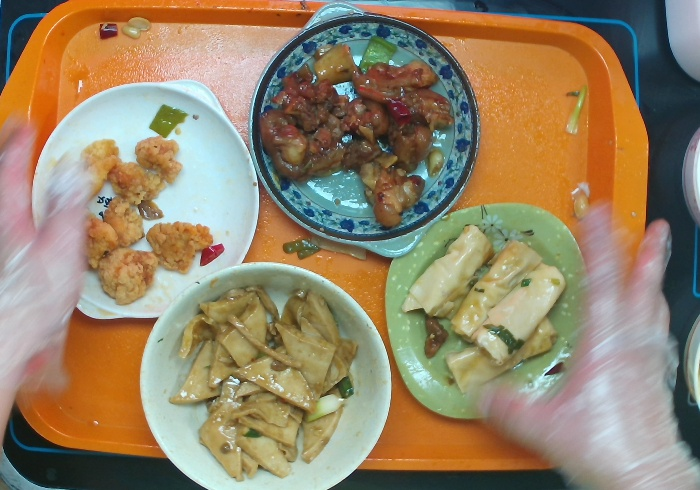NLDX-Bai_Se_Shuang_Er_Die: (24, 72, 270, 327)
NLDX-Bai_Se_Yuan_Wan: (133, 255, 394, 490)
NLDX-Lv_Hua_Fang_Die: (381, 200, 595, 426)
NLDX-Qing_Hua_Shuang_Er_Die: (238, 1, 487, 260)
